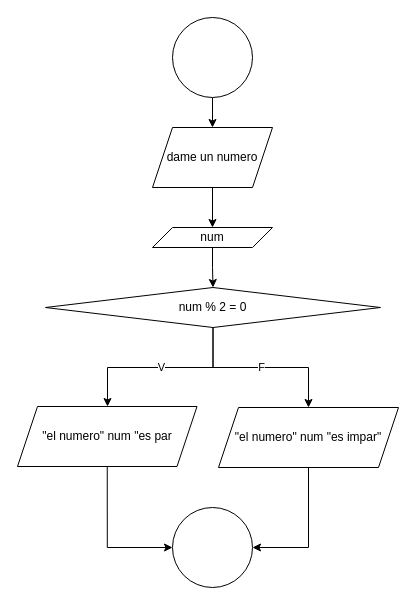
This 416x605 diagram has some shape labels left out. The shapes that lost their labels are listed below. From the top down, each one's centre as x and y in pixels, then its label:
the point at 212,57: inicio
the point at 212,547: fin
